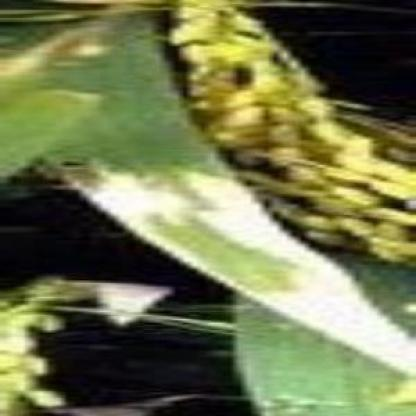Blight: (147, 198, 416, 382), (70, 174, 259, 223)
